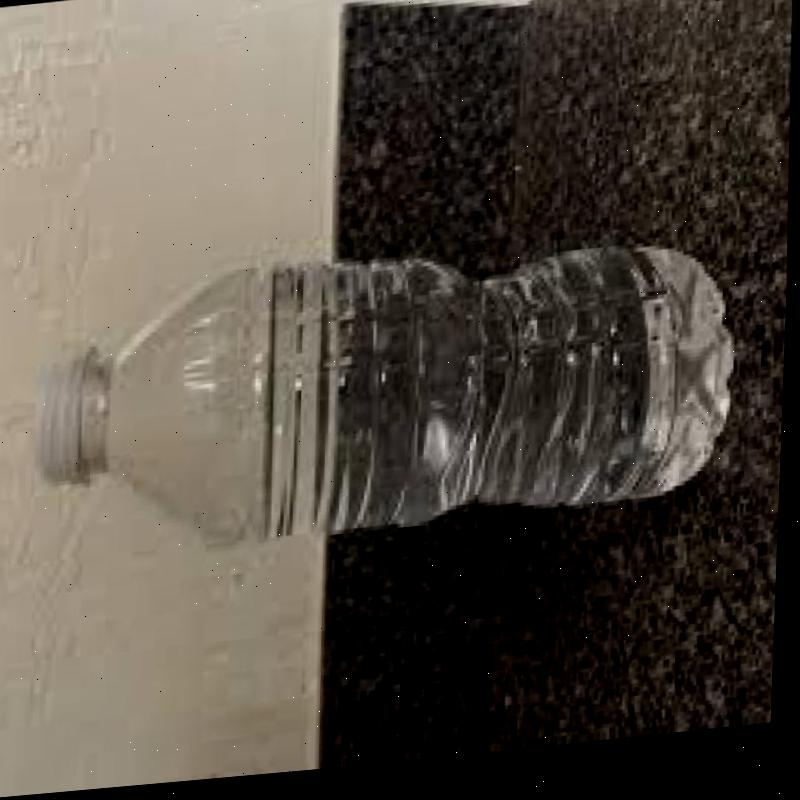botella: (30, 216, 746, 582)
